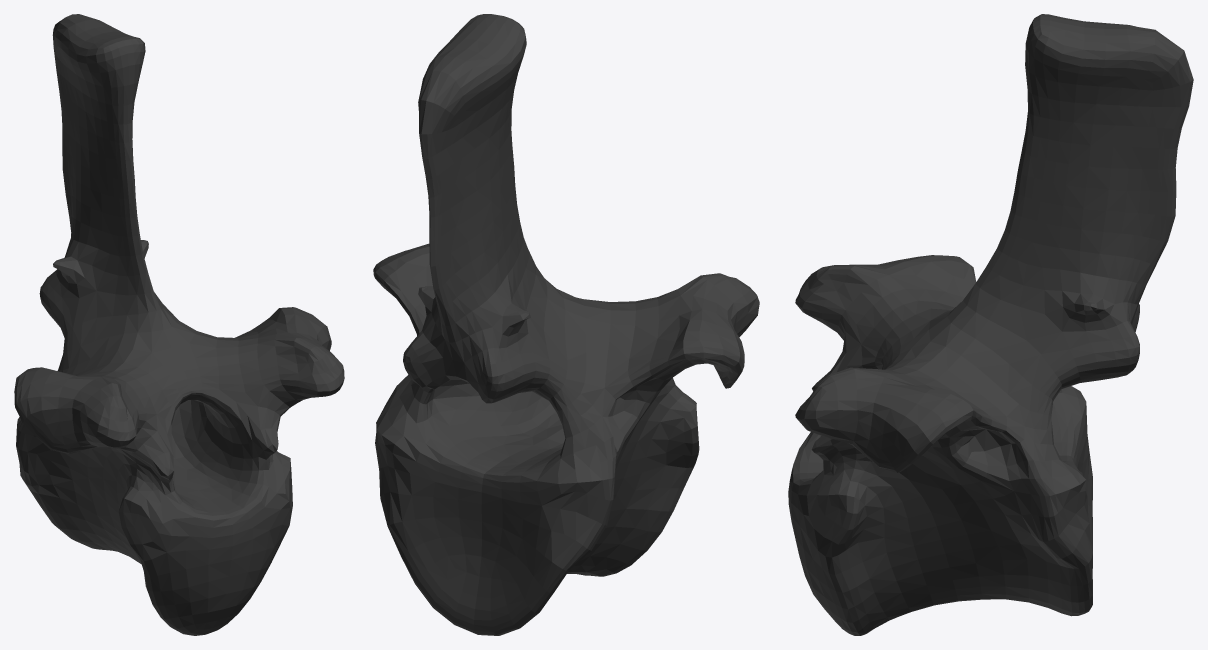
The picture shows the model from 3 angles, left to right: view 1: azimuth 30°, elevation 25°; view 2: azimuth 150°, elevation 25°; view 3: azimuth 270°, elevation 25°; orthographic projection. The views are drawn at different scales.
Visible parts, largest first — view 1: b_T13_LO; view 2: b_T13_LO; view 3: b_T13_LO.
Part boxes in pixels (box(x1,y1,x2,y2)): b_T13_LO: box(14, 14, 344, 635); b_T13_LO: box(373, 14, 759, 635); b_T13_LO: box(788, 14, 1193, 635).
Bounding box in the file's own units: 0.000871 × 0.00143 × 0.000859.
1 material, 1 textured.
